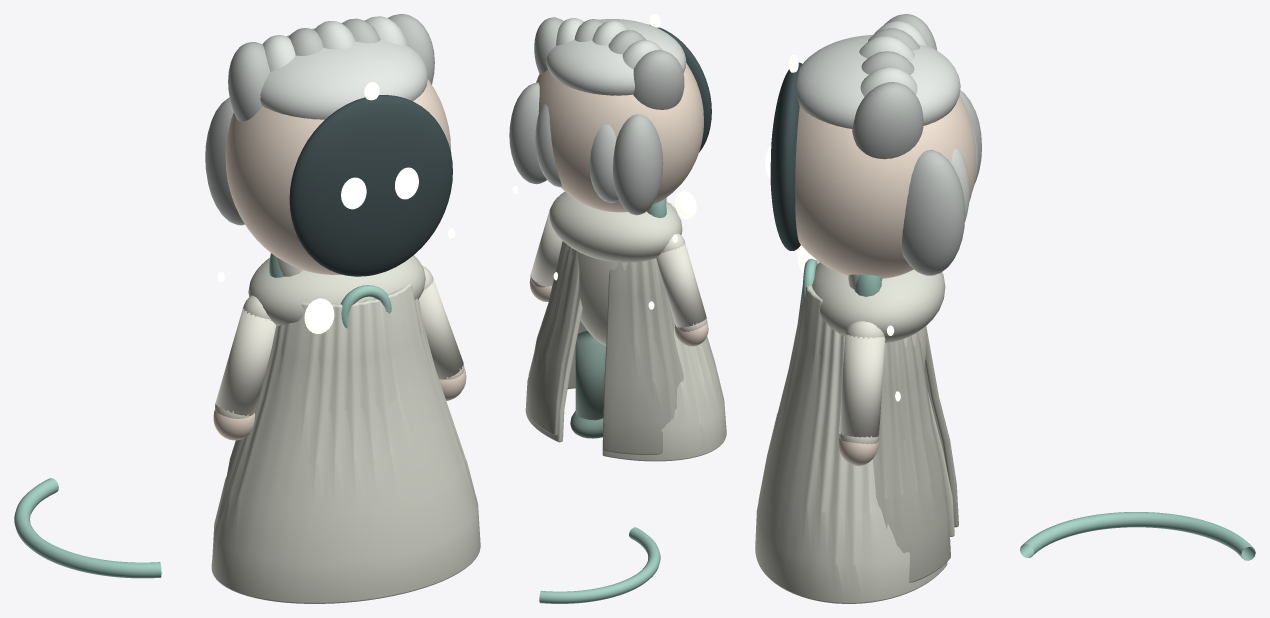
The model's file is Traveler-B-SkyStyle.glb.
3 renders of one model, left to right at view 1: azimuth 30°, elevation 25°; view 2: azimuth 150°, elevation 25°; view 3: azimuth 270°, elevation 25°, orthographic. The views are drawn at different scales.
Parts seen in each view (by area): view 1: Traveler B Cape, Traveler B Face Mask, Traveler B Head, Traveler B Hair Crown, Traveler B Shoulder Mantle, Traveler B Arm R, Traveler B Scarf Ribbon, Traveler B Hair Tuft 6, Traveler B Hair Lock 4, Traveler B Arm L, Traveler B Hair Tuft 0, Traveler B Hair Tuft 3 (+9 smaller); view 2: Traveler B Cape Inner, Traveler B Head, Traveler B Cape, Traveler B Shoulder Mantle, Traveler B Hair Crown, Traveler B Hair Lock 4, Traveler B Arm R, Traveler B Hair Tuft 6, Traveler B Leg 0, Traveler B Torso, Traveler B Hair Lock 0, Traveler B Scarf Ribbon (+13 smaller); view 3: Traveler B Cape, Traveler B Head, Traveler B Cape Inner, Traveler B Hair Crown, Traveler B Shoulder Mantle, Traveler B Hair Lock 0, Traveler B Hair Tuft 0, Traveler B Arm L, Traveler B Face Mask, Traveler B Scarf Ribbon, Traveler B Hair Tuft 1, Traveler B Hair Tuft 3 (+2 smaller).
Part boxes in pixels (box(x1,y1,x2,y2)): Traveler B Cape: box(211, 283, 480, 603); Traveler B Face Mask: box(289, 95, 452, 276); Traveler B Head: box(225, 79, 451, 274); Traveler B Hair Crown: box(260, 28, 427, 119); Traveler B Shoulder Mantle: box(248, 255, 425, 325); Traveler B Arm R: box(215, 307, 276, 415); Traveler B Scarf Ribbon: box(14, 478, 161, 578); Traveler B Hair Tuft 6: box(228, 42, 269, 121); Traveler B Hair Lock 4: box(205, 97, 244, 225); Traveler B Arm L: box(419, 278, 463, 379); Traveler B Hair Tuft 0: box(388, 14, 434, 84); Traveler B Hair Tuft 3: box(314, 21, 355, 49); Traveler B Cape Inner: box(529, 241, 683, 454); Traveler B Head: box(536, 63, 703, 212); Traveler B Cape: box(525, 200, 726, 461); Traveler B Shoulder Mantle: box(549, 191, 682, 262); Traveler B Hair Crown: box(546, 19, 686, 95); Traveler B Hair Lock 4: box(613, 114, 663, 215); Traveler B Arm R: box(656, 242, 706, 327); Traveler B Hair Tuft 6: box(633, 50, 684, 109); Traveler B Leg 0: box(575, 331, 605, 420); Traveler B Torso: box(567, 245, 627, 345); Traveler B Hair Lock 0: box(509, 82, 546, 184); Traveler B Scarf Ribbon: box(539, 527, 660, 603); Traveler B Cape: box(755, 260, 954, 603); Traveler B Head: box(795, 95, 975, 278); Traveler B Cape Inner: box(873, 327, 958, 582); Traveler B Hair Crown: box(797, 35, 960, 128); Traveler B Shoulder Mantle: box(812, 262, 945, 342); Traveler B Hair Lock 0: box(901, 150, 965, 275); Traveler B Hair Tuft 0: box(852, 82, 923, 159); Traveler B Arm L: box(839, 333, 885, 437); Traveler B Face Mask: box(770, 62, 802, 250); Traveler B Scarf Ribbon: box(1020, 512, 1255, 560); Traveler B Hair Tuft 1: box(860, 66, 917, 96); Traveler B Hair Tuft 3: box(859, 36, 914, 60).
Bounding box in the file's own units: 1.08 × 2.02 × 1.62.
